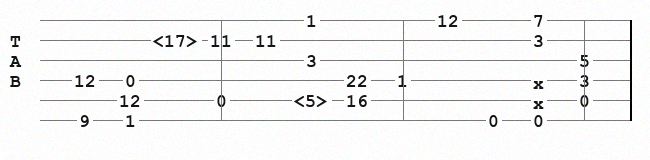0: (125, 72, 140, 88), (216, 92, 231, 108), (488, 112, 503, 128), (533, 112, 548, 128), (579, 92, 594, 108)
1: (125, 112, 140, 128), (306, 12, 321, 28), (397, 72, 412, 88)
11: (210, 32, 236, 48), (255, 32, 281, 48)
12: (74, 72, 100, 88), (119, 92, 145, 108), (437, 12, 463, 28)
16: (346, 92, 372, 108)
22: (346, 72, 372, 88)
3: (306, 52, 321, 68), (533, 32, 548, 48), (579, 72, 594, 88)
5: (579, 52, 594, 68)
7: (533, 12, 548, 28)
9: (79, 112, 94, 128)
harmonic: (153, 32, 203, 48), (294, 92, 333, 108)
x: (533, 94, 548, 106), (533, 74, 548, 86)
